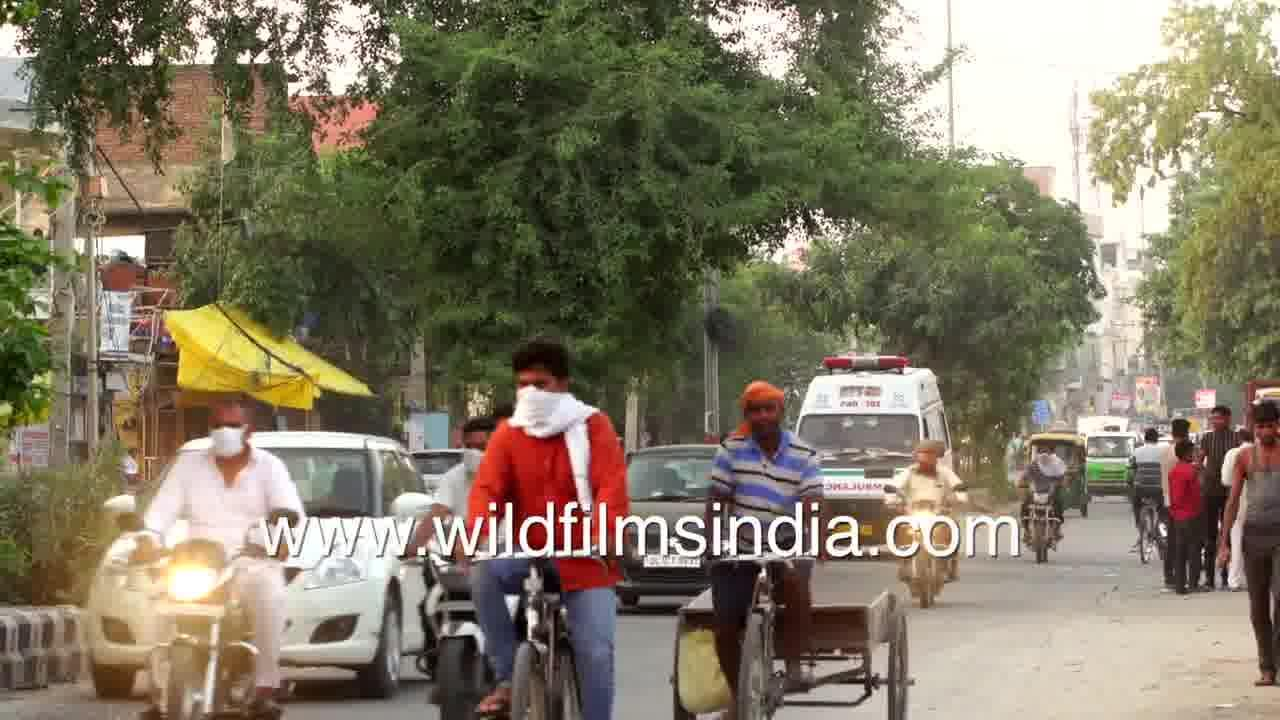AMBULANCE: (792, 353, 939, 502)
